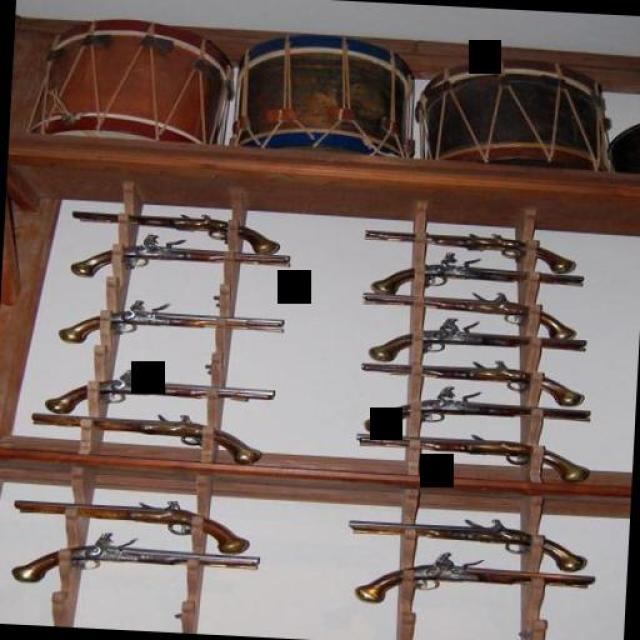gun: (346, 500, 600, 572), (340, 550, 595, 621), (50, 289, 291, 361), (29, 402, 269, 470), (344, 384, 596, 446), (353, 427, 598, 488), (39, 362, 285, 422), (364, 312, 594, 372), (352, 352, 598, 408), (358, 216, 588, 274), (62, 232, 292, 290), (62, 200, 288, 254), (360, 253, 586, 305), (355, 291, 587, 340)
